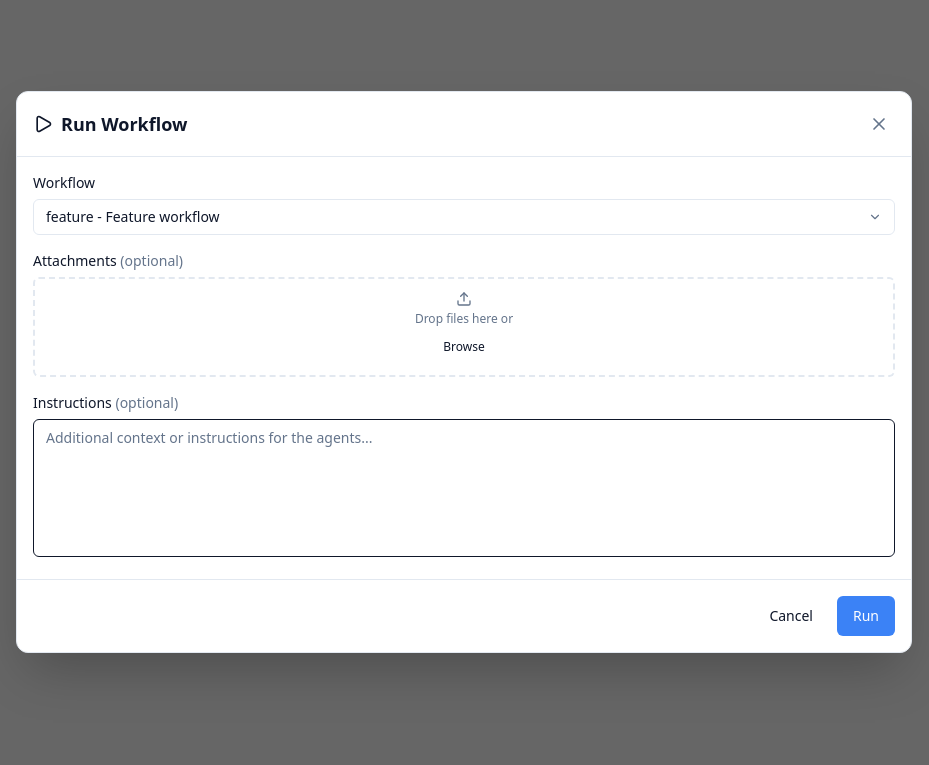
it: RunWorkflowDialog — concurrent workflow warning › shows warning banner when 409 concurrent-workflow error received
The width and height of the screenshot is (929, 765).
Click the button "Run". click: (866, 616)
box: [837,596,895,636]
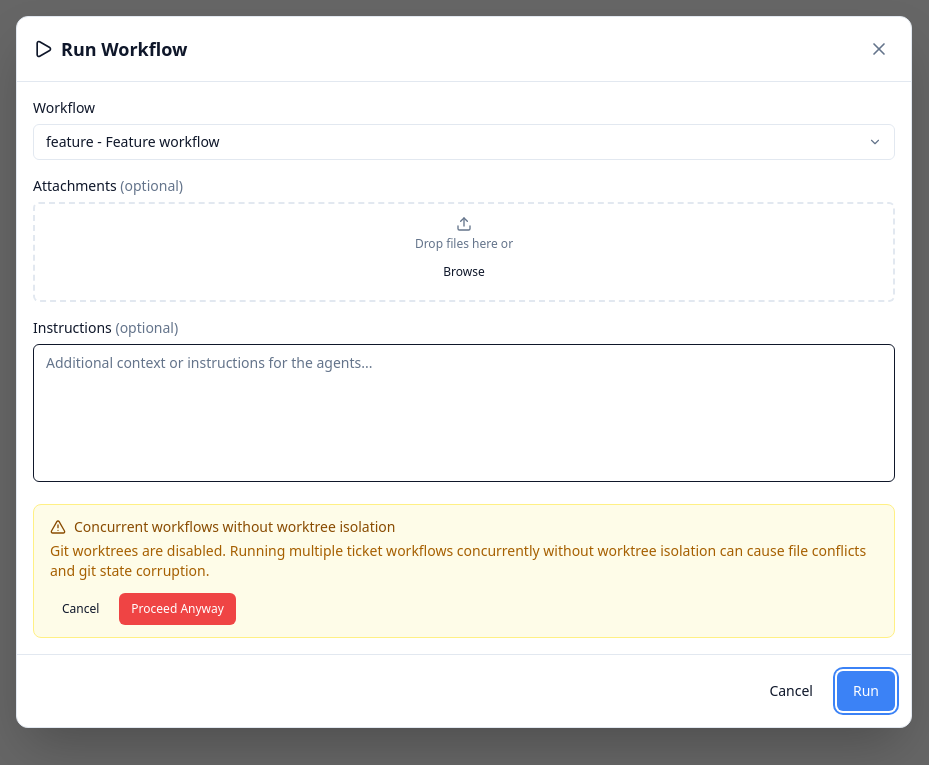
Result: the text "Concurrent workflows without worktree isolation" is shown at [50,517,396,536]
Result: the text "Git worktrees are disabled" is shown at [50,541,866,580]
Result: the button "Proceed Anyway" is shown at [119,593,236,625]
